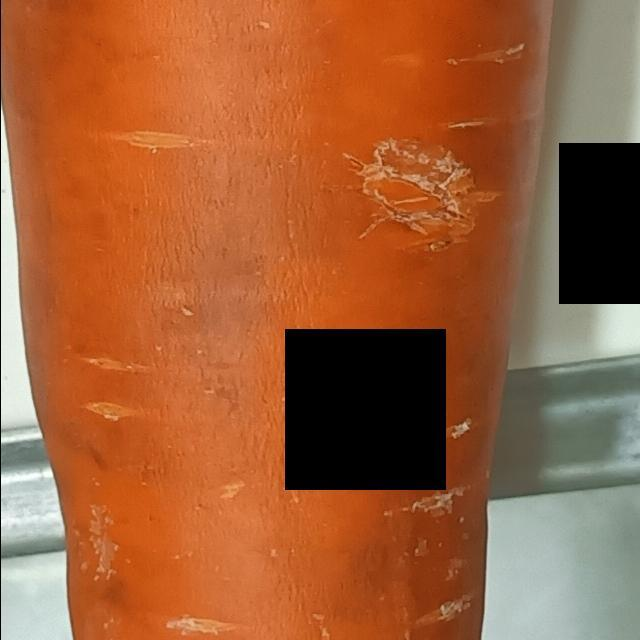carrot: (1, 1, 608, 640)
